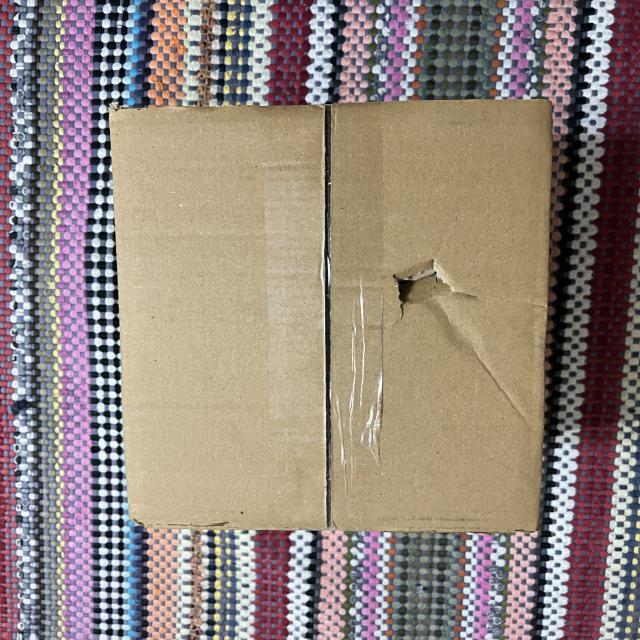damaged: (91, 84, 577, 548), (370, 243, 480, 342)
